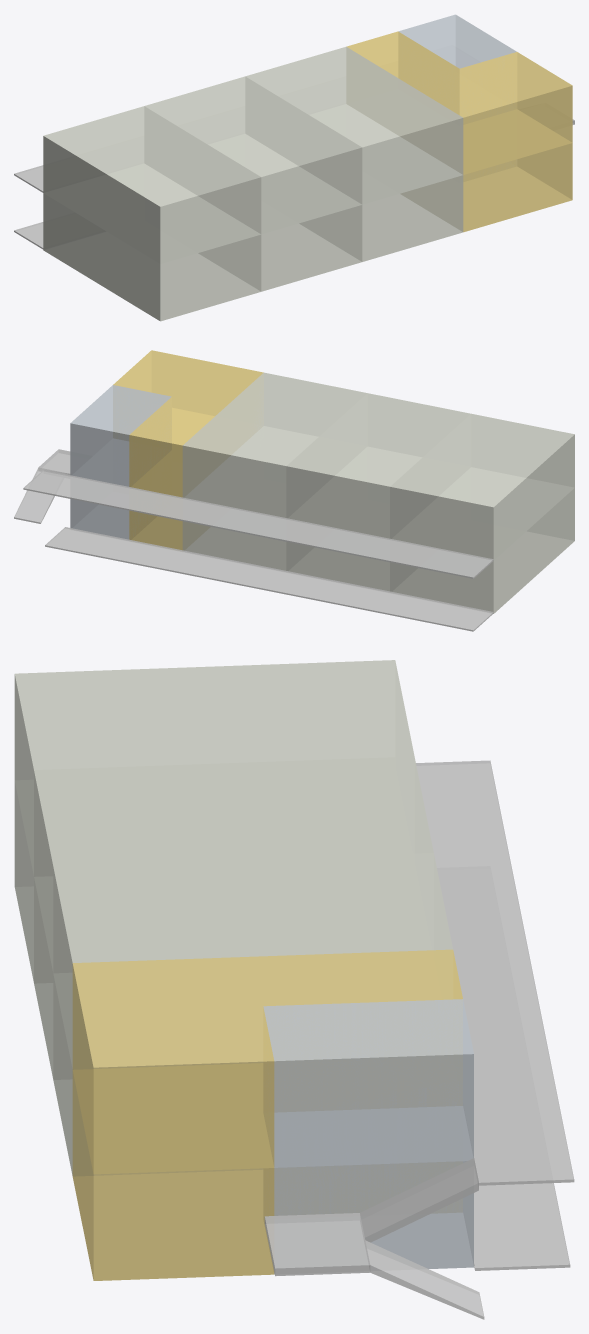
The picture shows the model from 3 angles, top to bottom: view 1: azimuth 30°, elevation 25°; view 2: azimuth 150°, elevation 25°; view 3: azimuth 270°, elevation 25°; orthographic projection. The views are drawn at different scales.
Visible parts, largest first — view 1: Geom3D (×8), Geom3D_ (×3); view 2: Geom3D (×10), Geom3D_ (×4); view 3: Geom3D (×11), Geom3D_ (×4).
Boxes of the visible parts, x1,y1,x2,y2 form: Geom3D (×8): (14,46,463,321); Geom3D_ (×3): (346,14,572,232); Geom3D (×10): (14,372,574,631); Geom3D_ (×4): (70,350,263,550); Geom3D (×11): (14,660,574,1319); Geom3D_ (×4): (72,949,473,1280).
Size of the model in its own units: 34 by 7.4 by 17.58.
